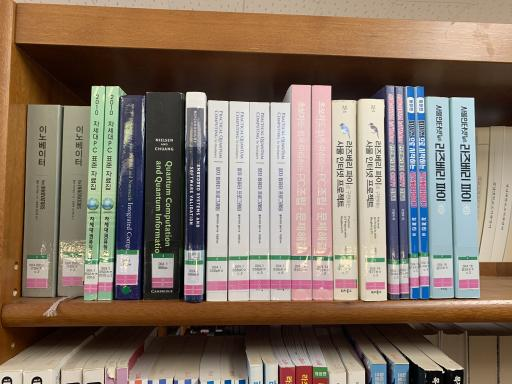book-spine: (143, 92, 182, 299), (22, 104, 59, 297), (59, 106, 91, 296), (116, 95, 145, 299), (359, 98, 387, 301), (427, 97, 454, 299), (453, 97, 480, 298), (333, 100, 358, 300), (184, 92, 206, 302), (312, 85, 333, 300), (84, 86, 105, 300), (292, 85, 312, 300), (98, 86, 118, 300), (207, 100, 228, 301), (228, 102, 249, 300), (250, 102, 270, 300), (271, 102, 291, 300), (396, 86, 409, 299), (387, 85, 399, 299), (407, 86, 419, 299), (417, 87, 429, 298)
